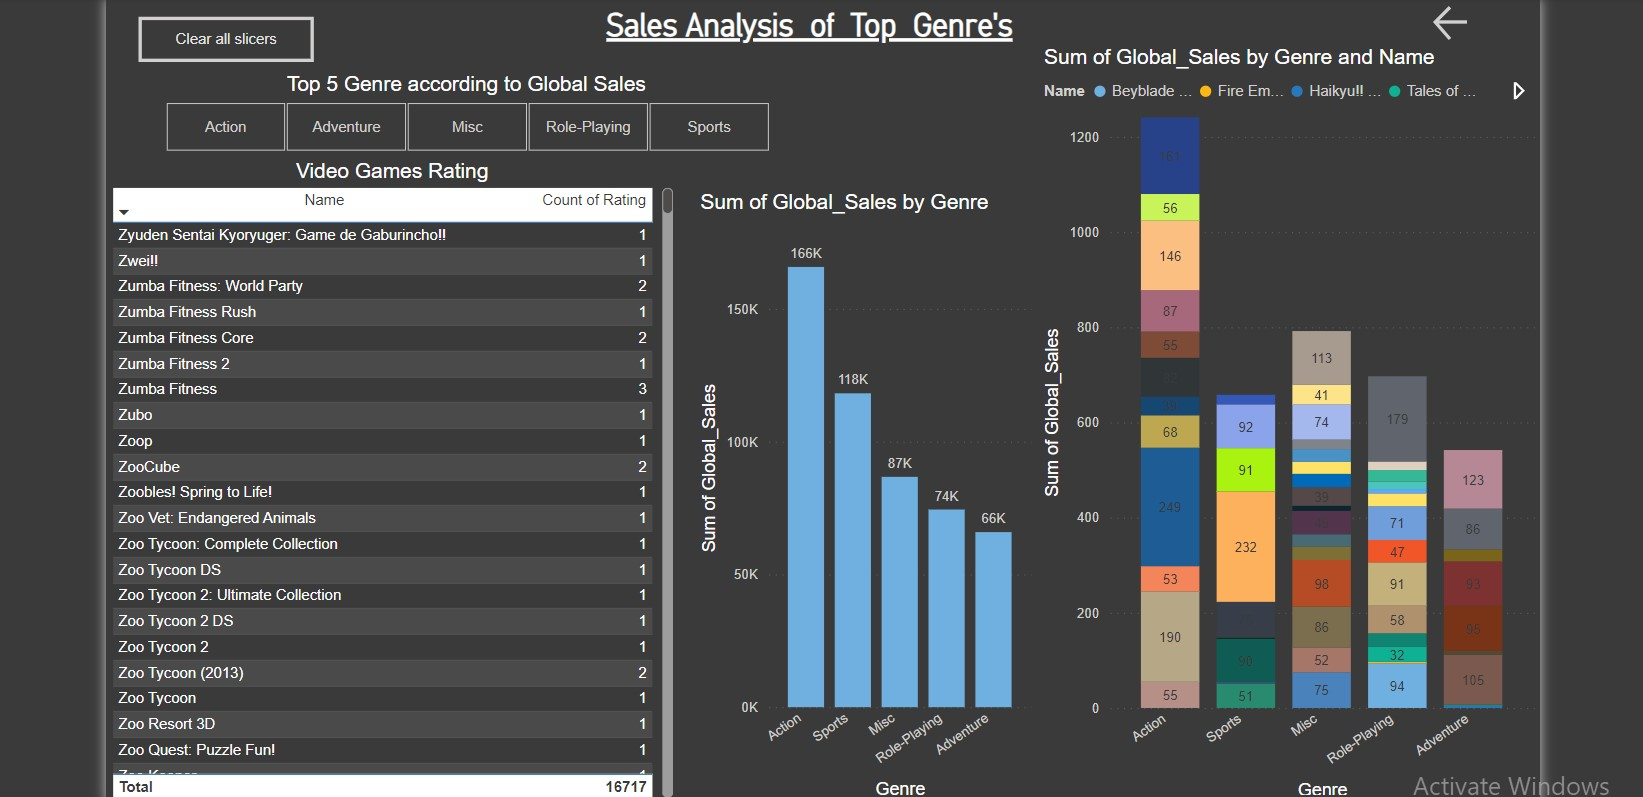

Layout of this report page (visuals, bound fields, positions):
{"tool":"powerbi","page":{"name":"Page 3","canvas":[1280,720],"ordinal":2},"visuals":[{"type":"slicer","title":"Top 5 Genre according to Global Sales","fields":{"Values":["name_rating_merged - games.Genre"]},"box":[28.4,66.2,587.7,77.2],"z":0},{"type":"tableEx","title":"Video Games Rating","fields":{"Values":["name_rating_merged - games.Name","CountNonNull(name_rating_merged - games.Rating)"]},"box":[0,144.1,511.1,576.4],"z":1000},{"type":"actionButton","box":[29,16.4,156.6,40.4],"z":2000},{"type":"actionButton","box":[1180.7,2.5,99.8,40.4],"z":3000},{"type":"textbox","box":[420,2,417,55],"z":4000},{"type":"columnChart","fields":{"Category":["name_rating_merged - games.Genre"],"Y":["Sum(name_rating_merged - games.Global_Sales)"]},"box":[525.9,172.3,306,548.2],"z":5000},{"type":"columnChart","fields":{"Category":["name_rating_merged - games.Genre"],"Y":["Sum(name_rating_merged - games.Global_Sales)"],"Series":["name_rating_merged - games.Name"]},"box":[832.2,42.9,448.3,678.1],"z":6000}]}

Visuals, with their boxes on the page's 1280x720 design canvas (x1, y1, x2, y2). These are canvas units, not pixel positions in the 1643x797 screenshot, which may show the page scaled, cropped or inside an application window:
"Top 5 Genre according to Global Sales" slicer: [28, 66, 616, 143]
"Video Games Rating" tableEx: [0, 144, 511, 720]
actionButton: [29, 16, 186, 57]
actionButton: [1181, 2, 1280, 43]
textbox: [420, 2, 837, 57]
columnChart - name_rating_merged - games.Genre x Sum(name_rating_merged - games.Global_Sales): [526, 172, 832, 720]
columnChart - name_rating_merged - games.Genre x Sum(name_rating_merged - games.Global_Sales): [832, 43, 1280, 721]
